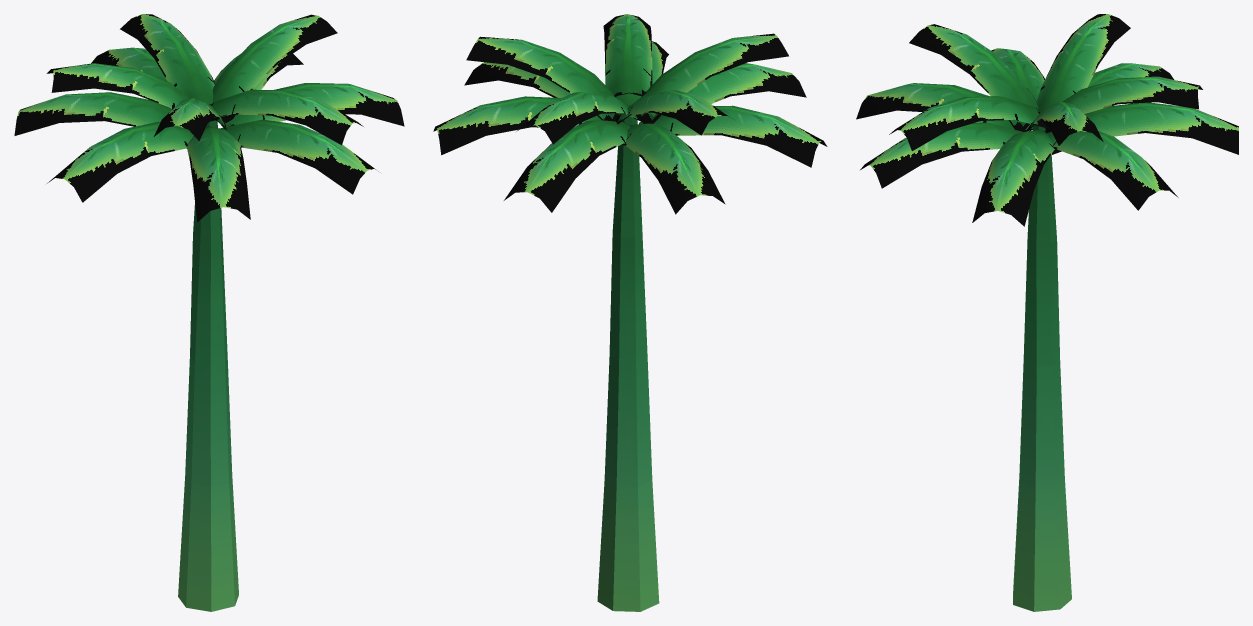
File: palm_tree.glb
The picture shows the model from 3 angles, left to right: view 1: azimuth 30°, elevation 25°; view 2: azimuth 150°, elevation 25°; view 3: azimuth 270°, elevation 25°; orthographic projection. The views are drawn at different scales.
Parts seen in each view (by area): view 1: Palm.001; view 2: Palm.001; view 3: Palm.001.
Part boxes in pixels (x1,y1,x2,y2): Palm.001: (14, 14, 404, 611); Palm.001: (433, 14, 827, 611); Palm.001: (856, 14, 1238, 611).
Size of the model in its own units: 5 by 7.52 by 4.89.
2 materials, 2 textured.
